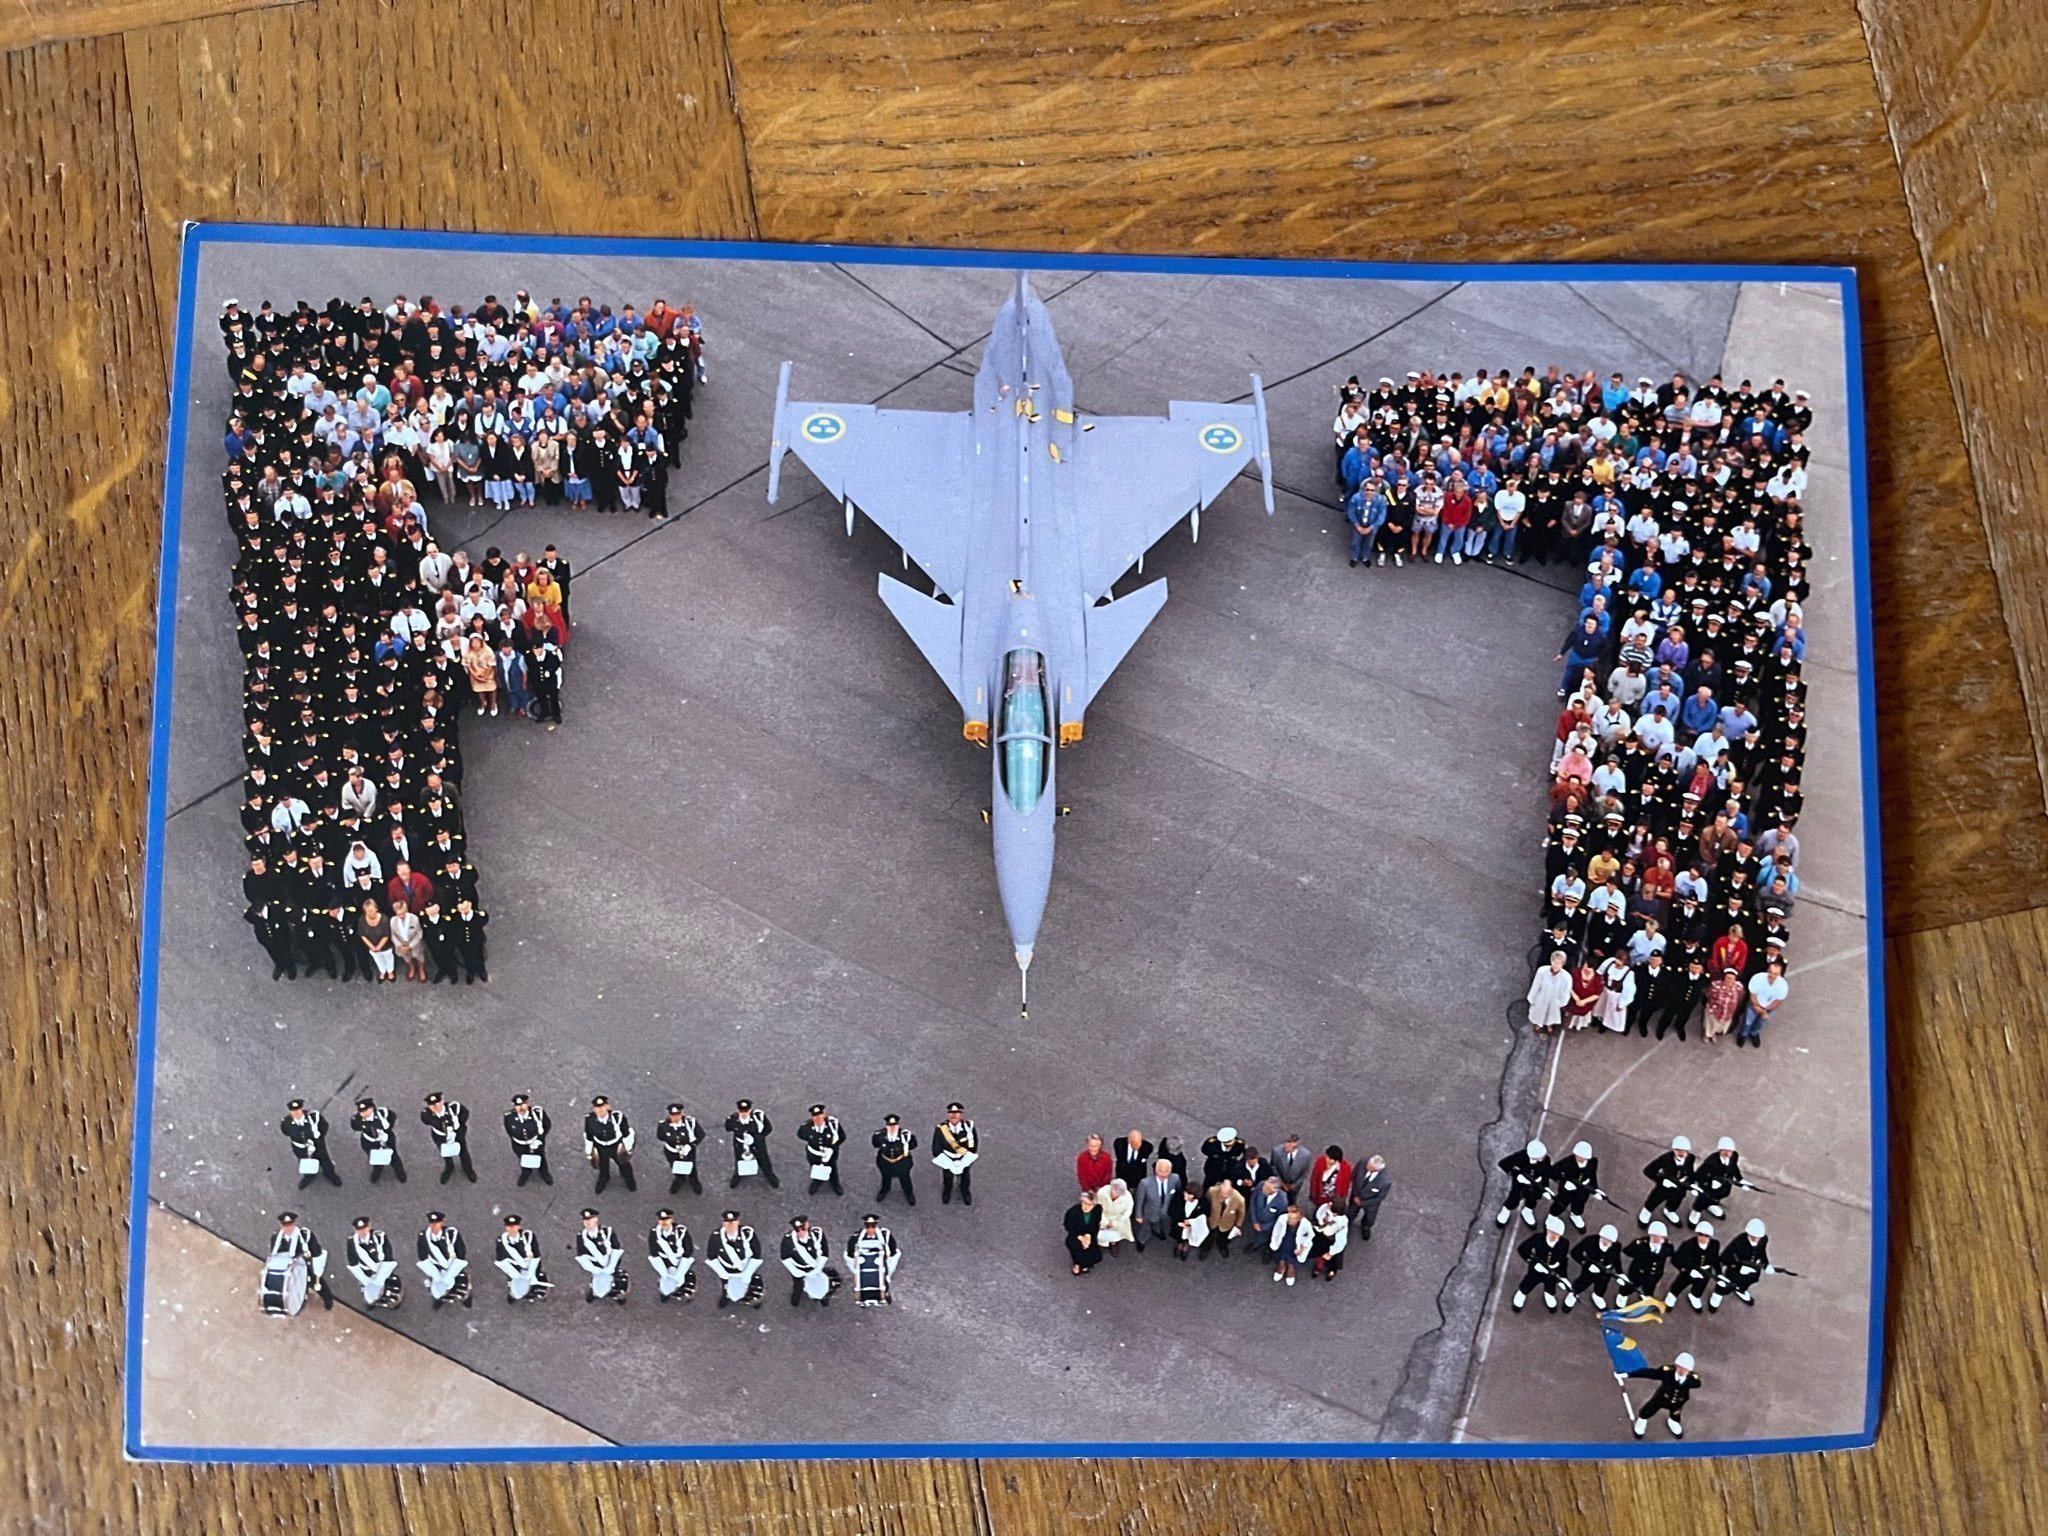JAS39: (766, 268, 1276, 1020)
